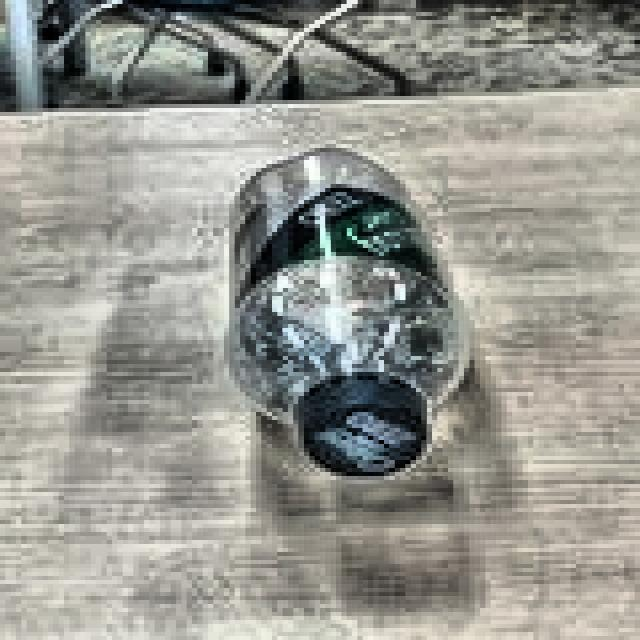plastic: (221, 130, 483, 494)
